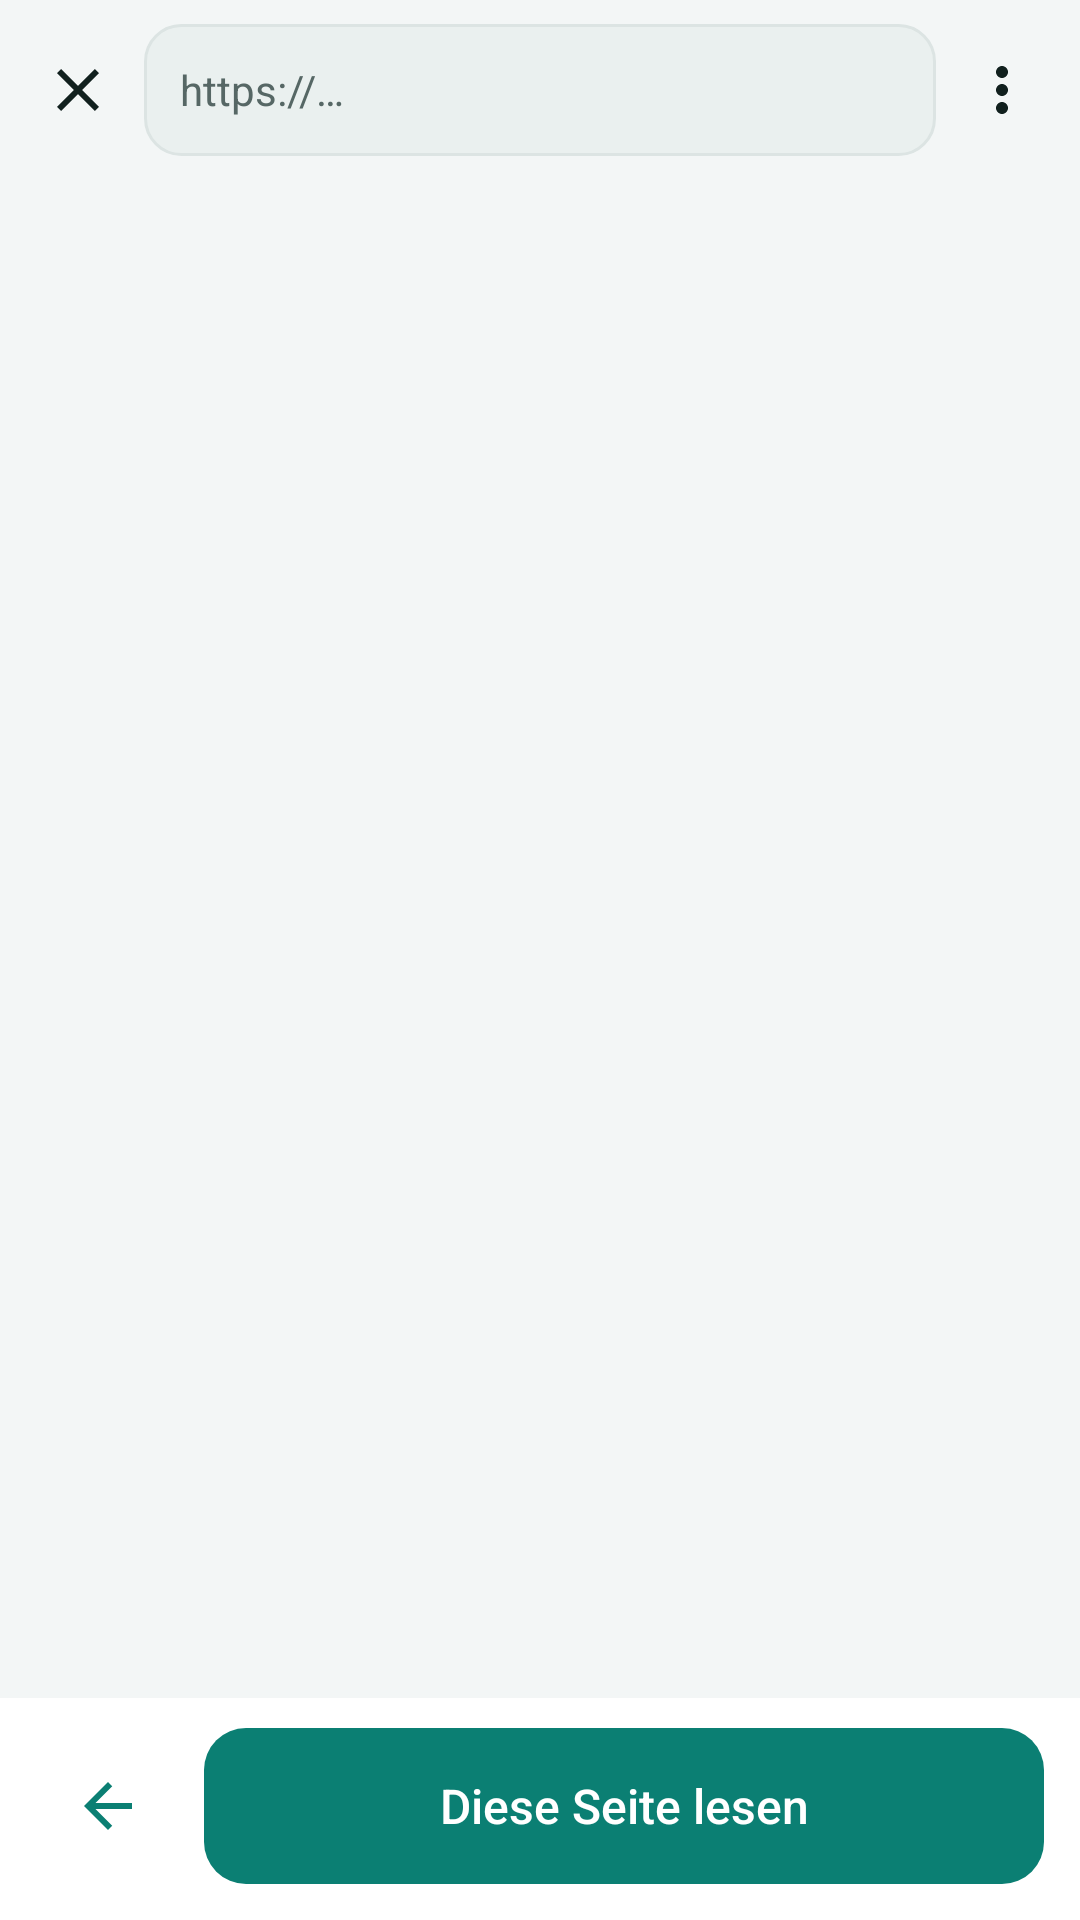

Icon click points for this 1080 × 1920 phone screenshot, format (x=x, y=y):
Mehr: (x=1002, y=90)
Schließen: (x=78, y=90)
Zurück: (x=108, y=1806)
